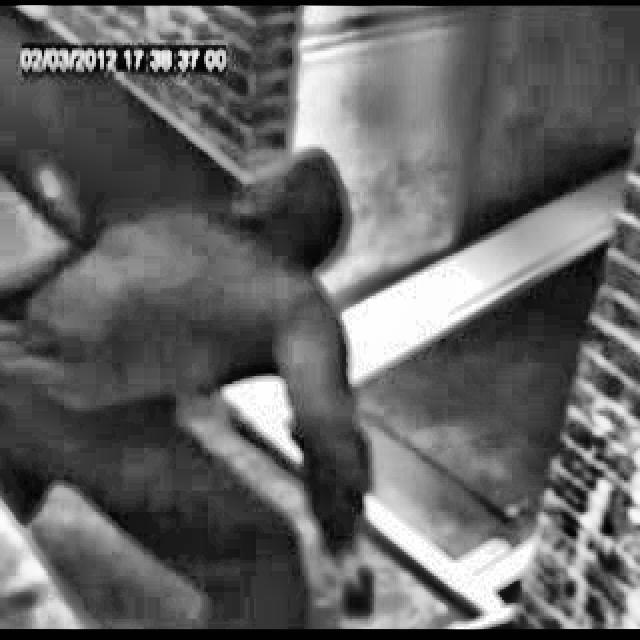burglary: (5, 140, 532, 628)
